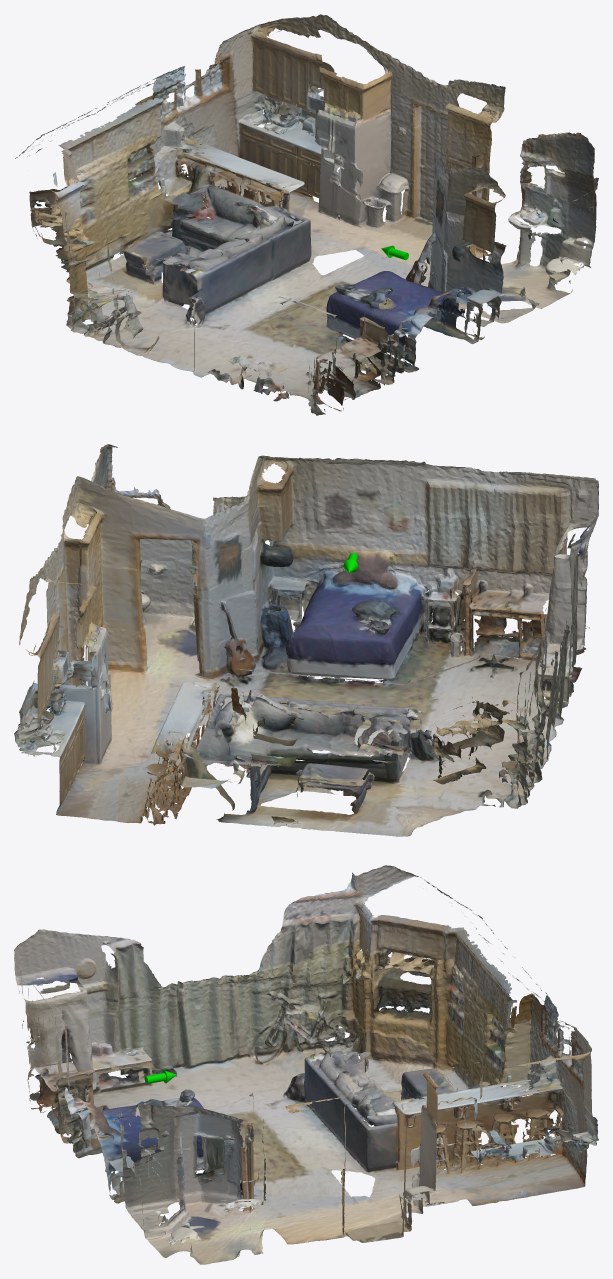
The model's file is situation_1.glb.
3 renders of one model, top to bottom at view 1: azimuth 30°, elevation 25°; view 2: azimuth 150°, elevation 25°; view 3: azimuth 270°, elevation 25°, orthographic. The views are drawn at different scales.
Parts seen in each view (by area): view 1: world; view 2: world; view 3: world.
Part boxes in pixels (bbox=[...]): world: bbox=[15, 14, 598, 415]; world: bbox=[14, 444, 598, 836]; world: bbox=[14, 865, 598, 1264].
Bounding box in the file's own units: 8.42 × 3.03 × 8.74.
